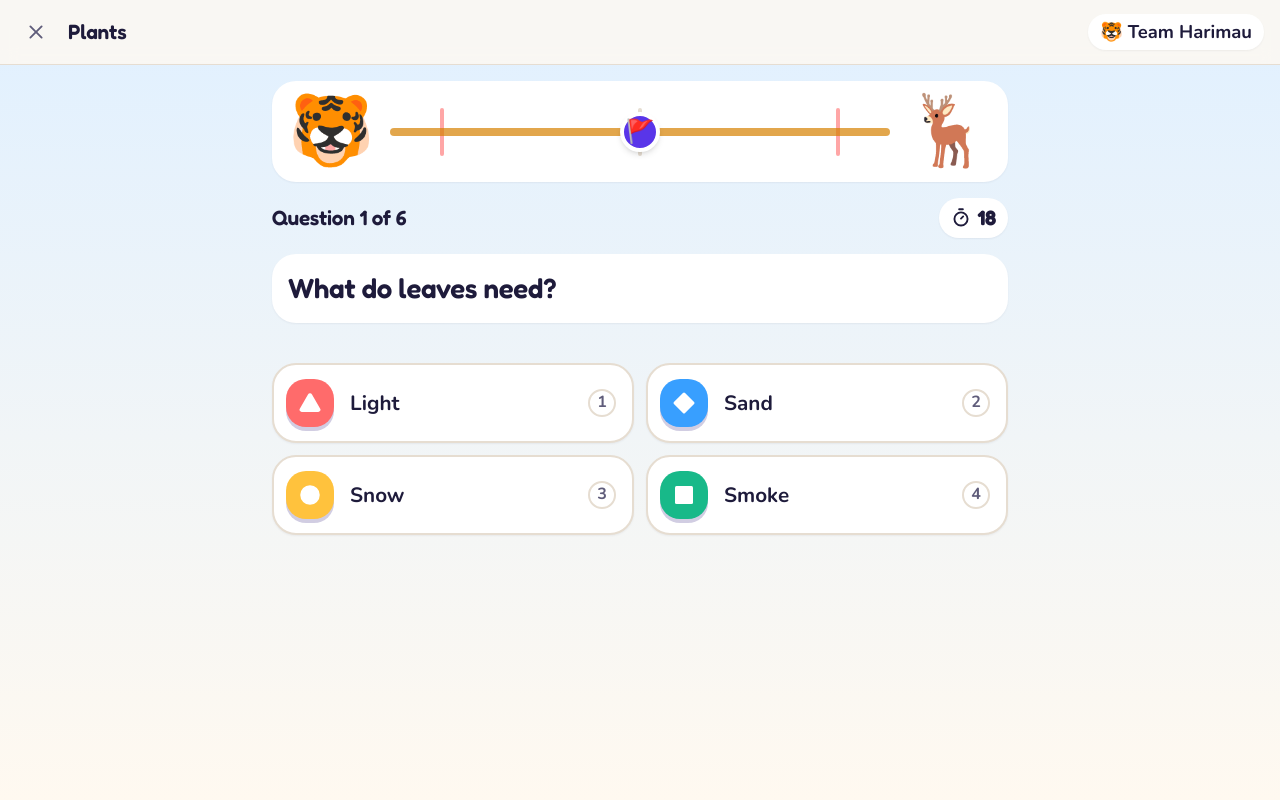
Class Battle on a student's device (§28.3.6) › answers with the quiz tiles, locks in, and hears how it went
This screenshot has width=1280, height=800.
Step 1. Click the button "Light 1" → click(310, 403), box [272,363,634,443]
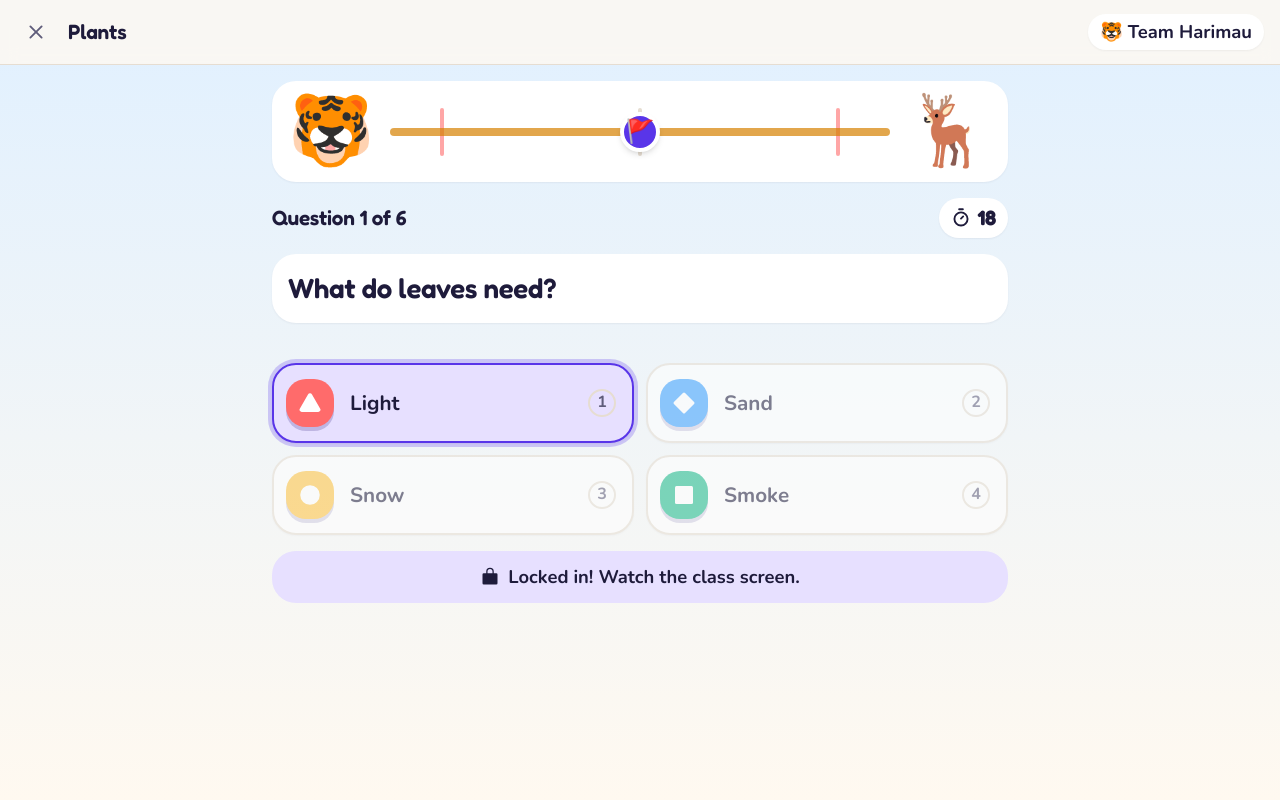
Result: the text "Locked in! Watch the class screen." is shown at [272,551,1008,603]
